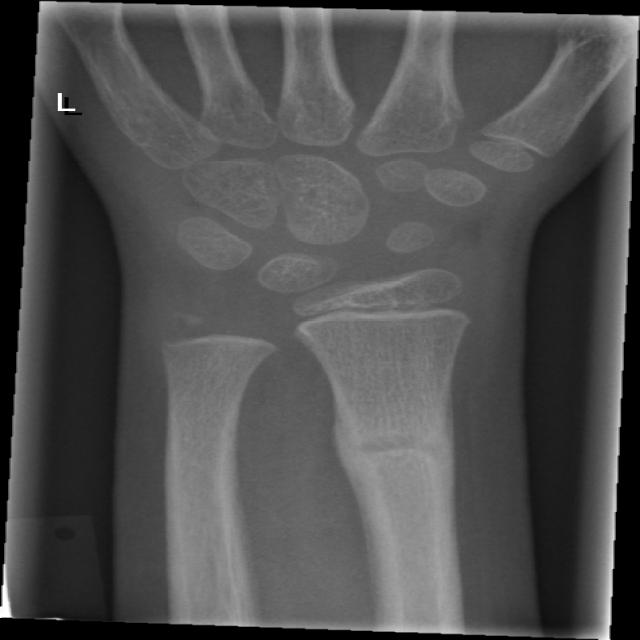radius fracture: (304, 378, 518, 562)
